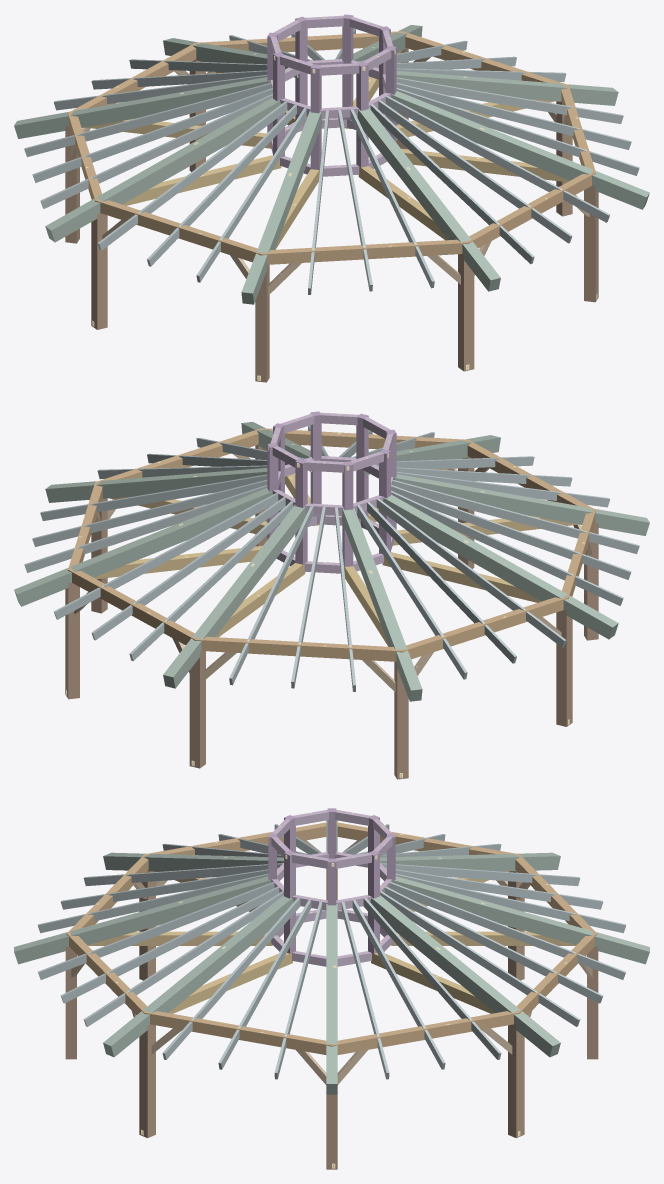
File: Octagon-fitted-assembled.glb
3 renders of one model, top to bottom at view 1: azimuth 30°, elevation 25°; view 2: azimuth 150°, elevation 25°; view 3: azimuth 270°, elevation 25°, orthographic. The views are drawn at different scales.
Parts seen in each view (by area): view 1: R4 timber, R7 timber, R6 timber, R3 timber, R5 timber, R0 timber, B5 timber, J3-0 timber, J6-2 timber, J3-1 timber, B4 timber, J3-2 timber (+42 smaller); view 2: R4 timber, R1 timber, R2 timber, R5 timber, R3 timber, R0 timber, B2 timber, J4-2 timber, J1-0 timber, J4-1 timber, B3 timber, J4-0 timber (+42 smaller); view 3: R1 timber, R7 timber, R2 timber, R6 timber, B0 timber, B7 timber, J1-2 timber, J6-0 timber, R3 timber, R5 timber, R0 timber, J1-1 timber (+36 smaller).
Boxes of the visible parts, x1=… form: R4 timber: x1=45, y1=97, x2=280, y2=242; R7 timber: x1=391, y1=91, x2=649, y2=209; R6 timber: x1=357, y1=107, x2=500, y2=291; R3 timber: x1=14, y1=77, x2=270, y2=138; R5 timber: x1=241, y1=110, x2=322, y2=304; R0 timber: x1=396, y1=71, x2=618, y2=105; B5 timber: x1=261, y1=239, x2=468, y2=264; J3-0 timber: x1=24, y1=83, x2=271, y2=156; J6-2 timber: x1=385, y1=96, x2=610, y2=222; J3-1 timber: x1=32, y1=88, x2=272, y2=182; B4 timber: x1=95, y1=199, x2=261, y2=262; J3-2 timber: x1=40, y1=93, x2=272, y2=208; R4 timber: x1=383, y1=494, x2=618, y2=639; R1 timber: x1=14, y1=488, x2=272, y2=606; R2 timber: x1=163, y1=504, x2=306, y2=688; R5 timber: x1=393, y1=474, x2=649, y2=535; R3 timber: x1=341, y1=507, x2=422, y2=701; R0 timber: x1=45, y1=468, x2=267, y2=502; B2 timber: x1=195, y1=636, x2=402, y2=661; J4-2 timber: x1=392, y1=480, x2=639, y2=553; J1-0 timber: x1=53, y1=493, x2=278, y2=619; J4-1 timber: x1=391, y1=485, x2=631, y2=579; B3 timber: x1=402, y1=596, x2=568, y2=659; J4-0 timber: x1=391, y1=490, x2=623, y2=605; R1 timber: x1=370, y1=895, x2=560, y2=1057; R7 timber: x1=103, y1=895, x2=293, y2=1057; R2 timber: x1=392, y1=876, x2=649, y2=964; R6 timber: x1=14, y1=876, x2=271, y2=964; B0 timber: x1=332, y1=1011, x2=519, y2=1054; B7 timber: x1=144, y1=1011, x2=331, y2=1054; J1-2 timber: x1=389, y1=882, x2=625, y2=979; J6-0 timber: x1=38, y1=882, x2=274, y2=979; R3 timber: x1=380, y1=852, x2=560, y2=871; R5 timber: x1=103, y1=852, x2=283, y2=871; R0 timber: x1=326, y1=904, x2=337, y2=1094; J1-1 timber: x1=384, y1=886, x2=603, y2=1003.
Size of the model in its own units: 11.16 by 4.29 by 11.16.
Materials: 9 (1 with a texture image).
